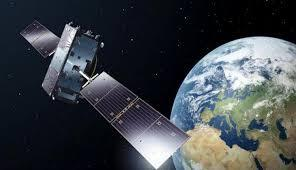body: (39, 19, 108, 108)
solar: (78, 70, 196, 170), (19, 17, 62, 60)
